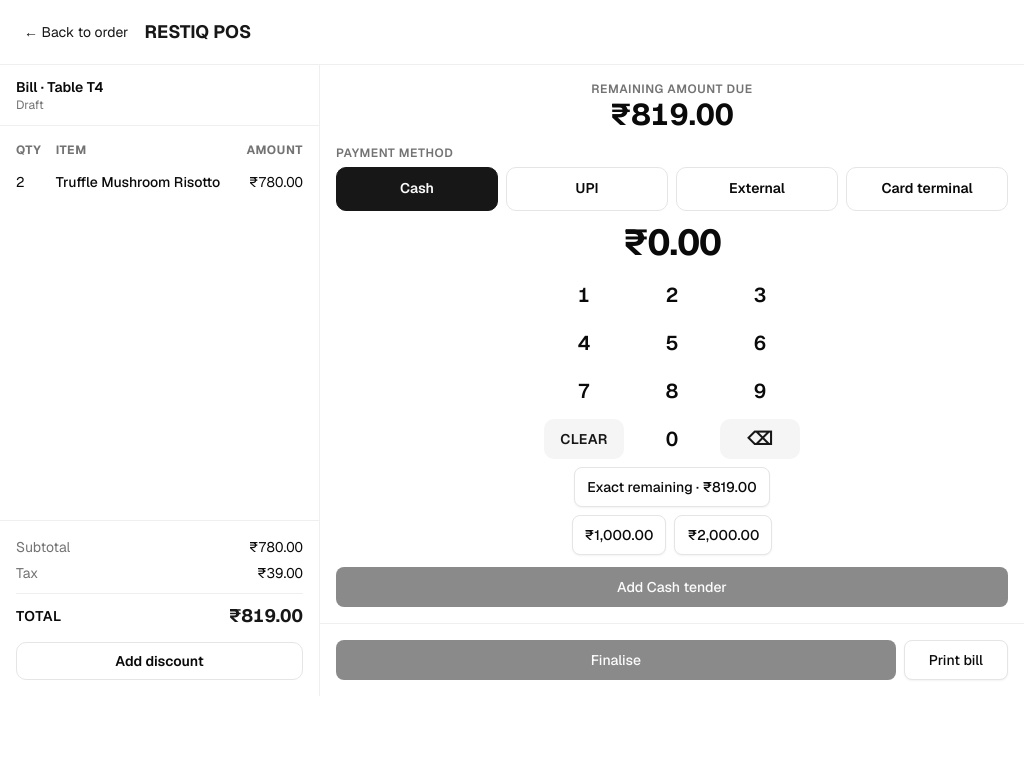
Test: BillSettleView - tenders › removes a pending tender before finalizing
The image size is (1024, 768).
Expected: the element with test id "bill-summary" is shown, 0,65 -> 320,696
Click the button with test id "tender-fill-remaining": coordinates (672, 486) 574,466 -> 770,506
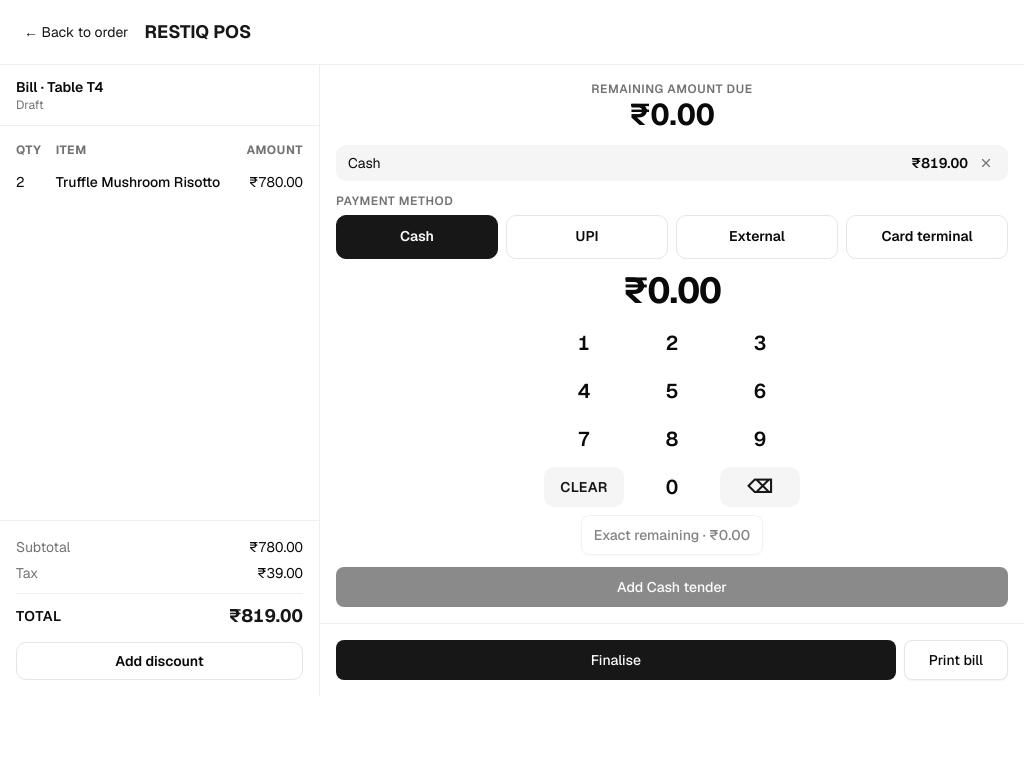
Now the text with test id "tender-remaining" reads "₹0.00", box 629,95 -> 715,134
Click the button with test id "tender-remove-0": coordinates (986, 163) 976,153 -> 996,173
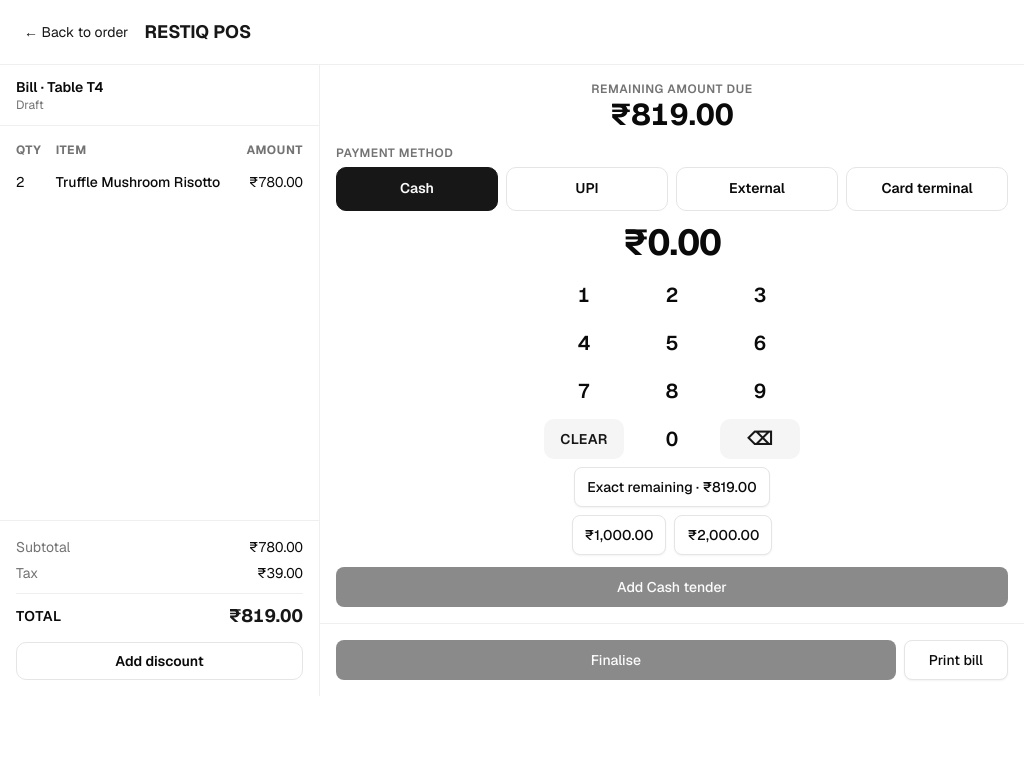
Now the text with test id "tender-remaining" reads "₹819.00", box 610,95 -> 734,134
